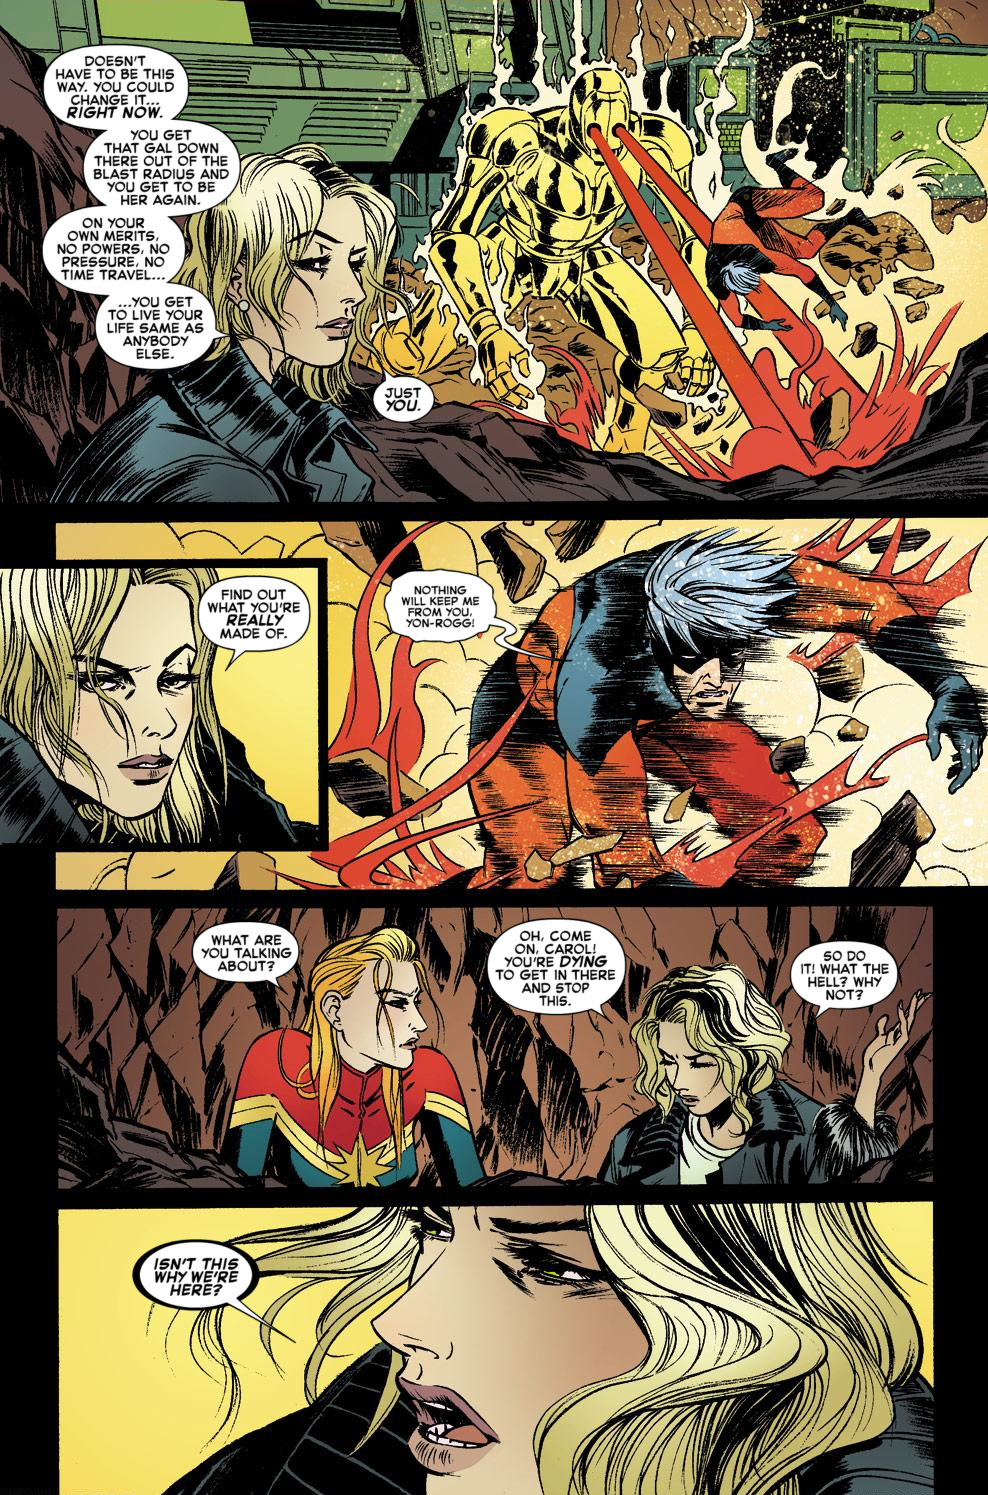Baloon: (42, 45, 244, 370), (385, 564, 560, 668), (485, 919, 626, 1031), (138, 1240, 273, 1336), (197, 577, 310, 665), (788, 934, 894, 1020), (187, 918, 307, 994), (372, 365, 444, 427)
Vignetta: (6, 1, 988, 506), (54, 520, 987, 886), (58, 1211, 938, 1495), (49, 906, 933, 1184), (1, 563, 322, 847)
